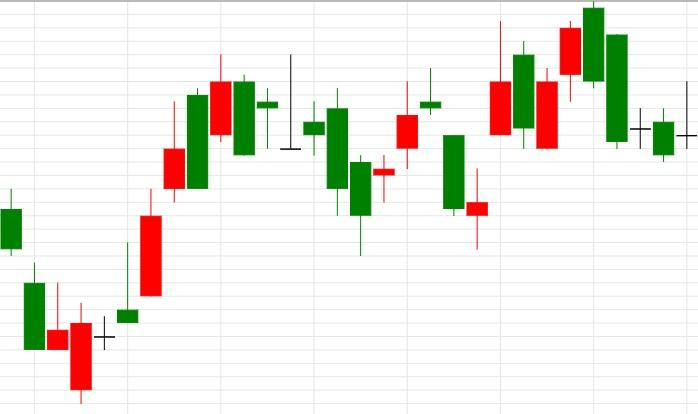inverse_hammer_rise: (0, 188, 70, 351)
